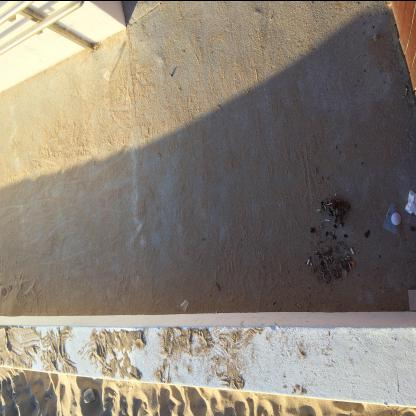kagit: (404, 189, 415, 217), (180, 298, 190, 310)
plastik: (102, 69, 110, 81)
